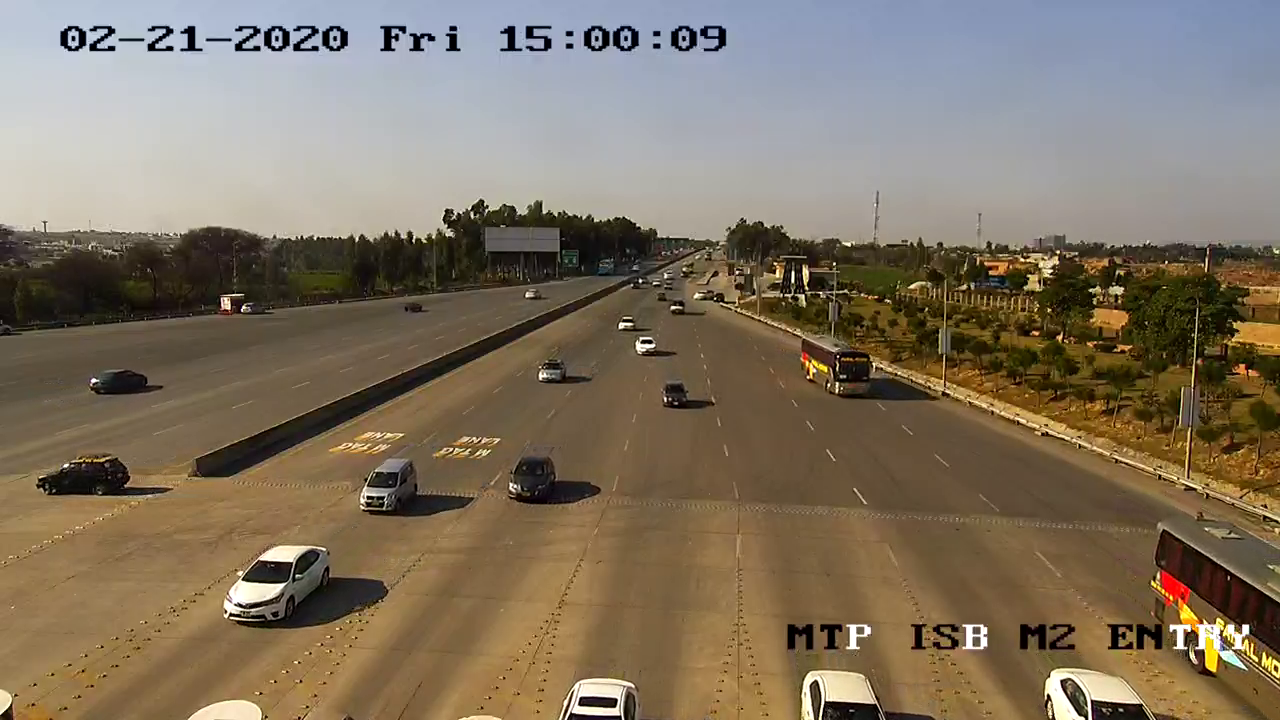f1: (214, 531, 339, 632), (351, 452, 426, 519), (494, 450, 570, 511), (657, 380, 698, 412)
f4: (789, 328, 885, 411)
